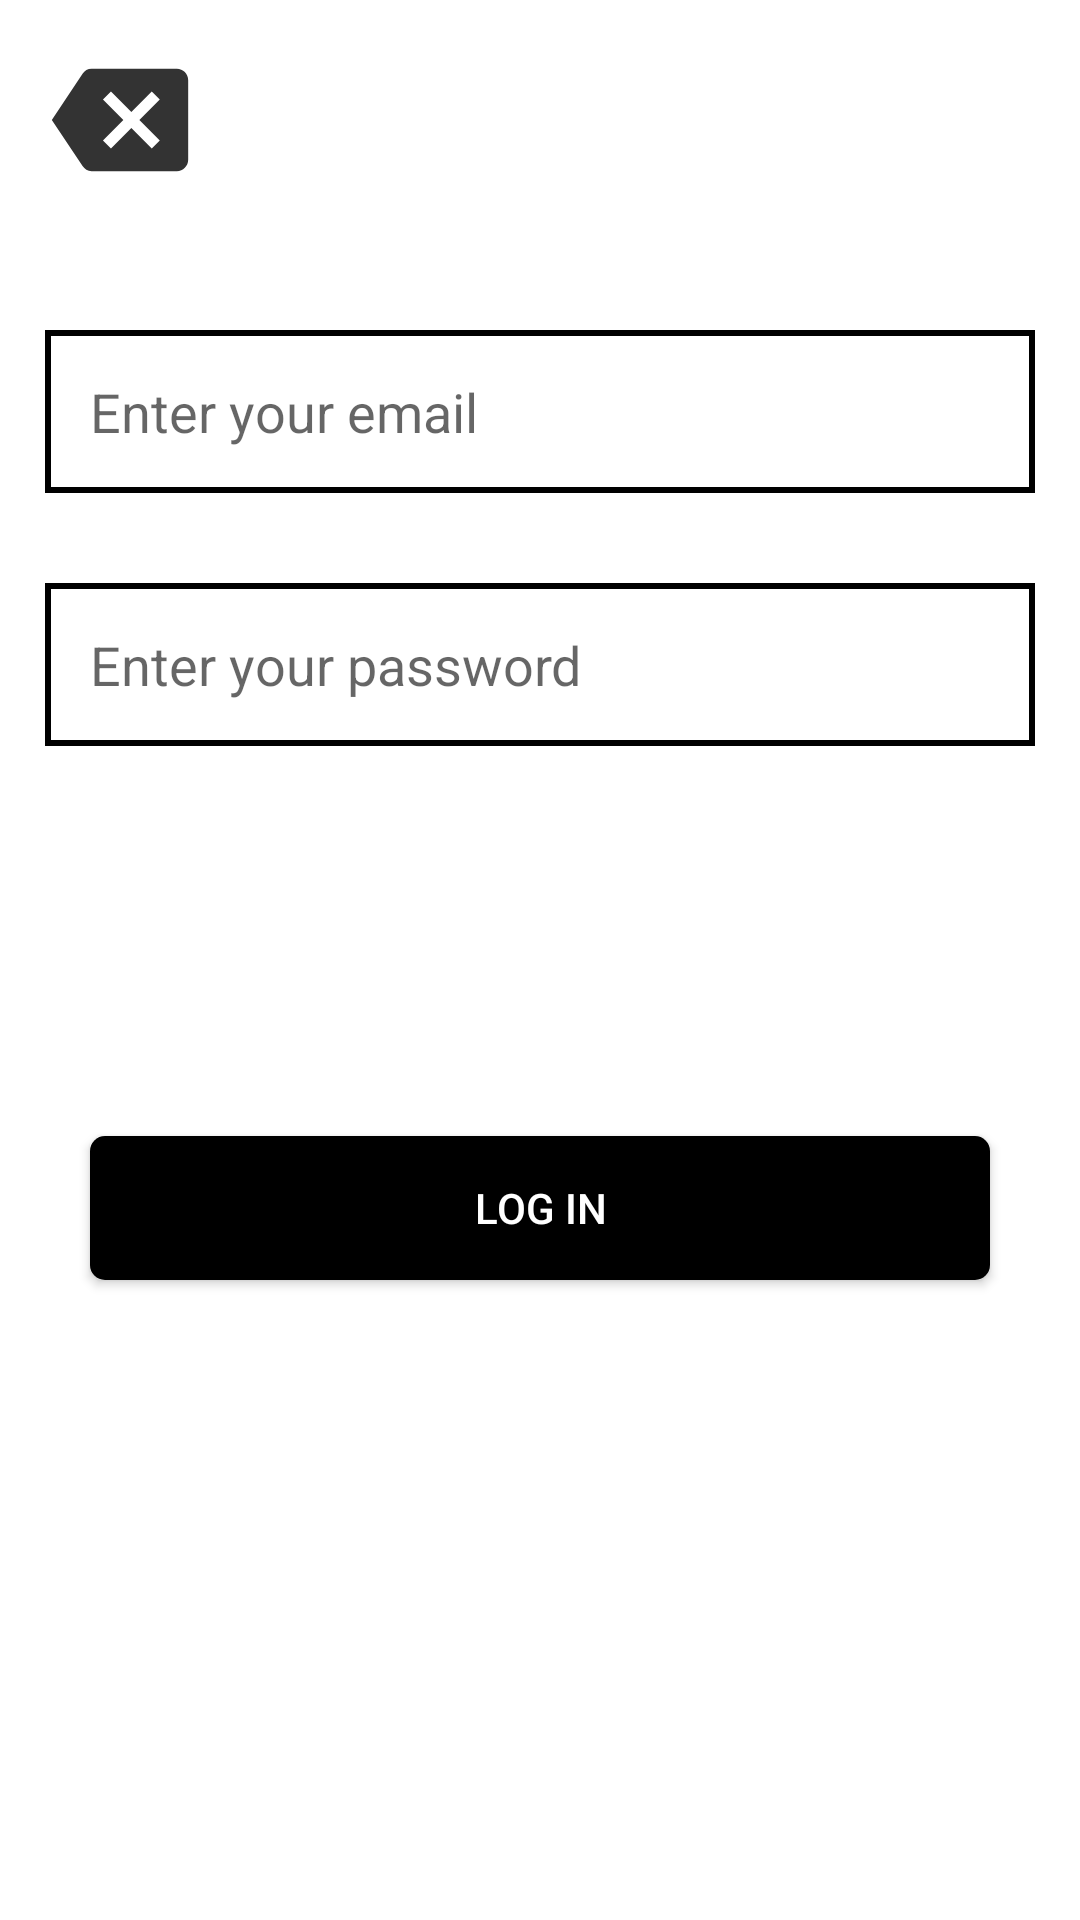

Icon bounding boxes for this 1080×1920 phone screenshot, format box(x1, y1, x2, y2):
back: box(52, 68, 189, 172)
